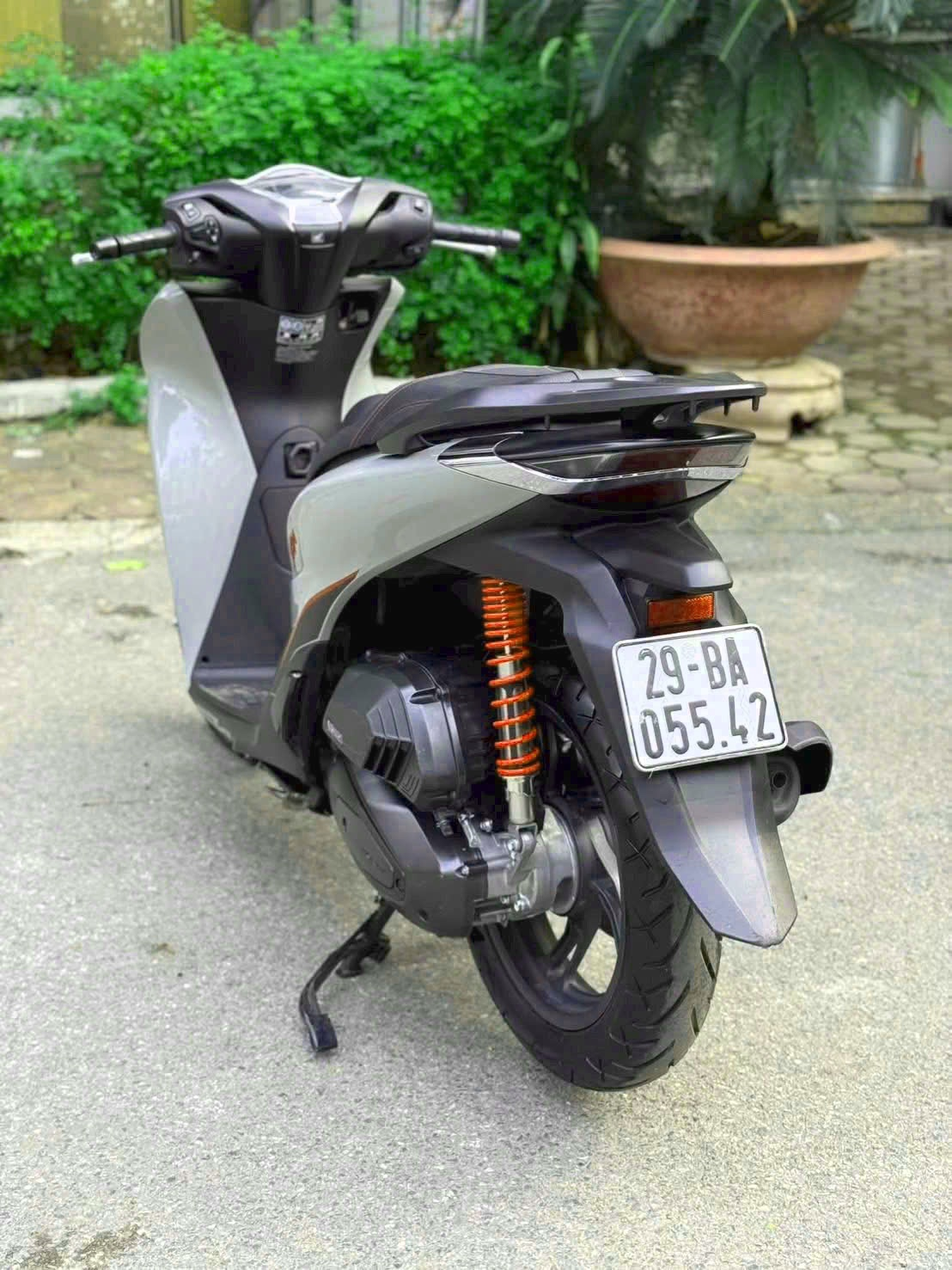Bien-so: (613, 613, 797, 774)
